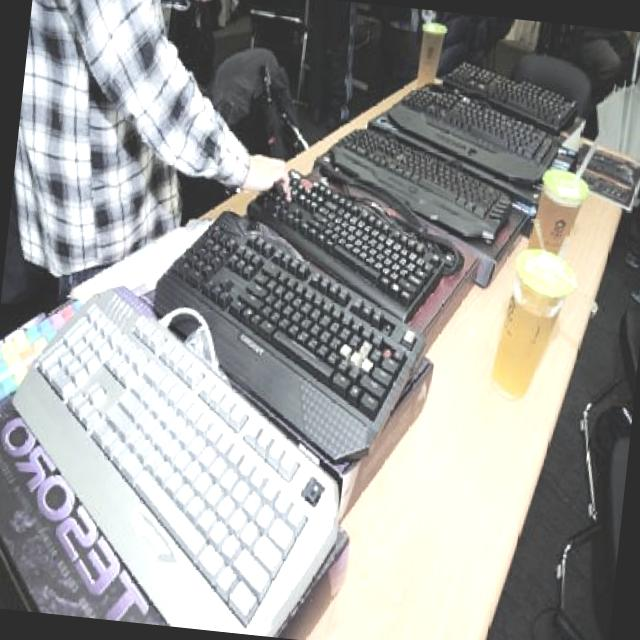Person: (25, 0, 271, 303)
